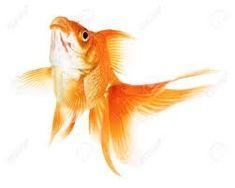goldfish: (35, 14, 182, 147)
